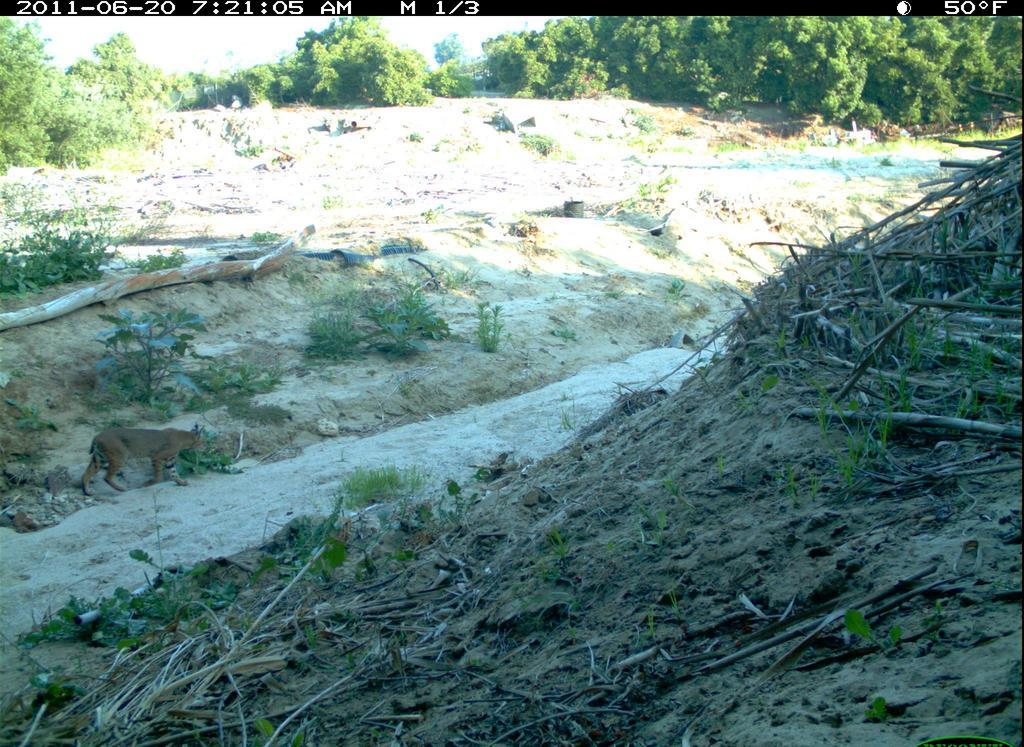bobcat: (66, 418, 213, 510)
